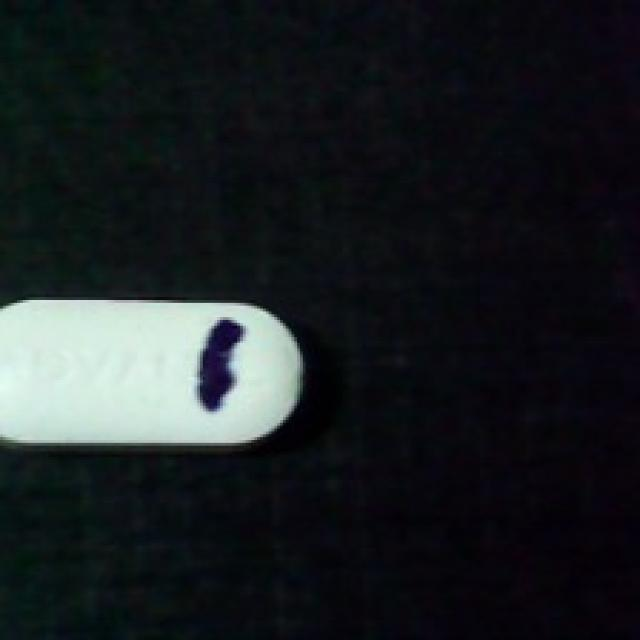defected: (0, 286, 306, 451)
